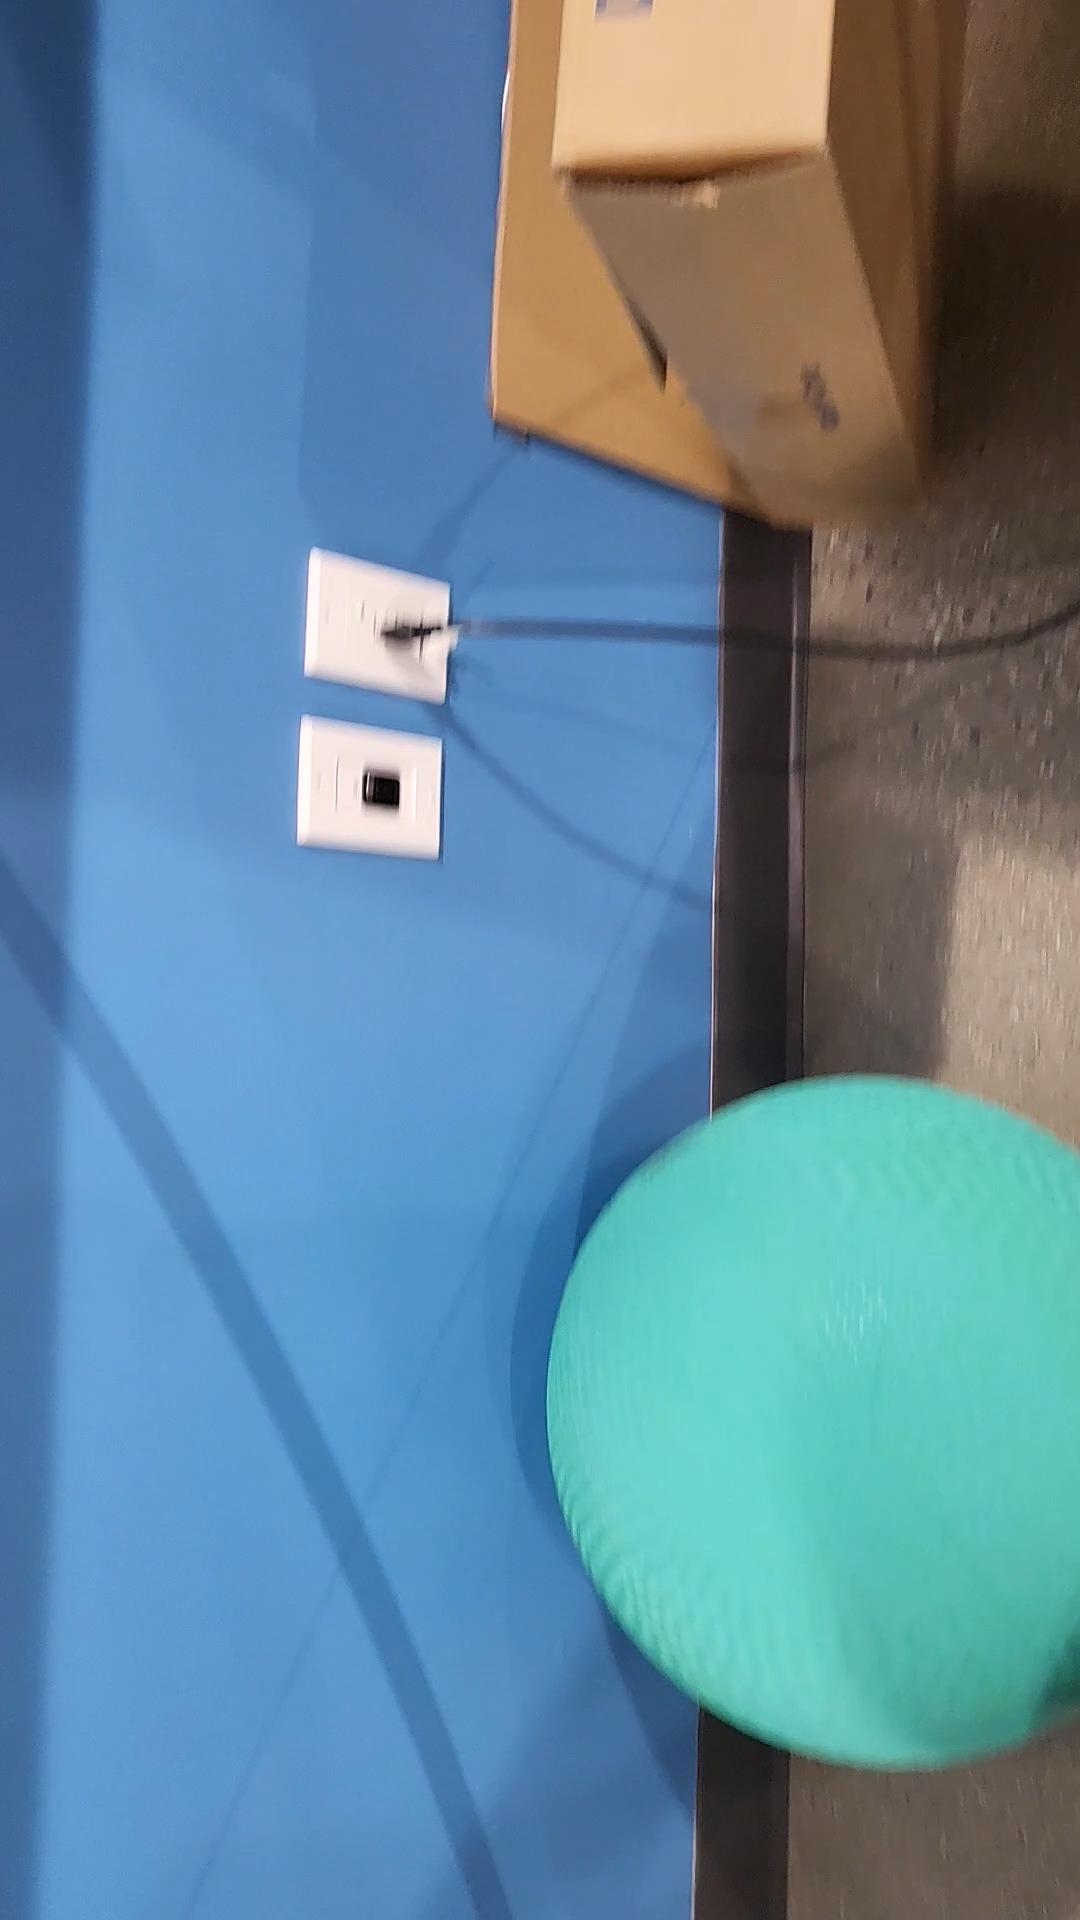algae: (545, 1077, 1080, 1770)
